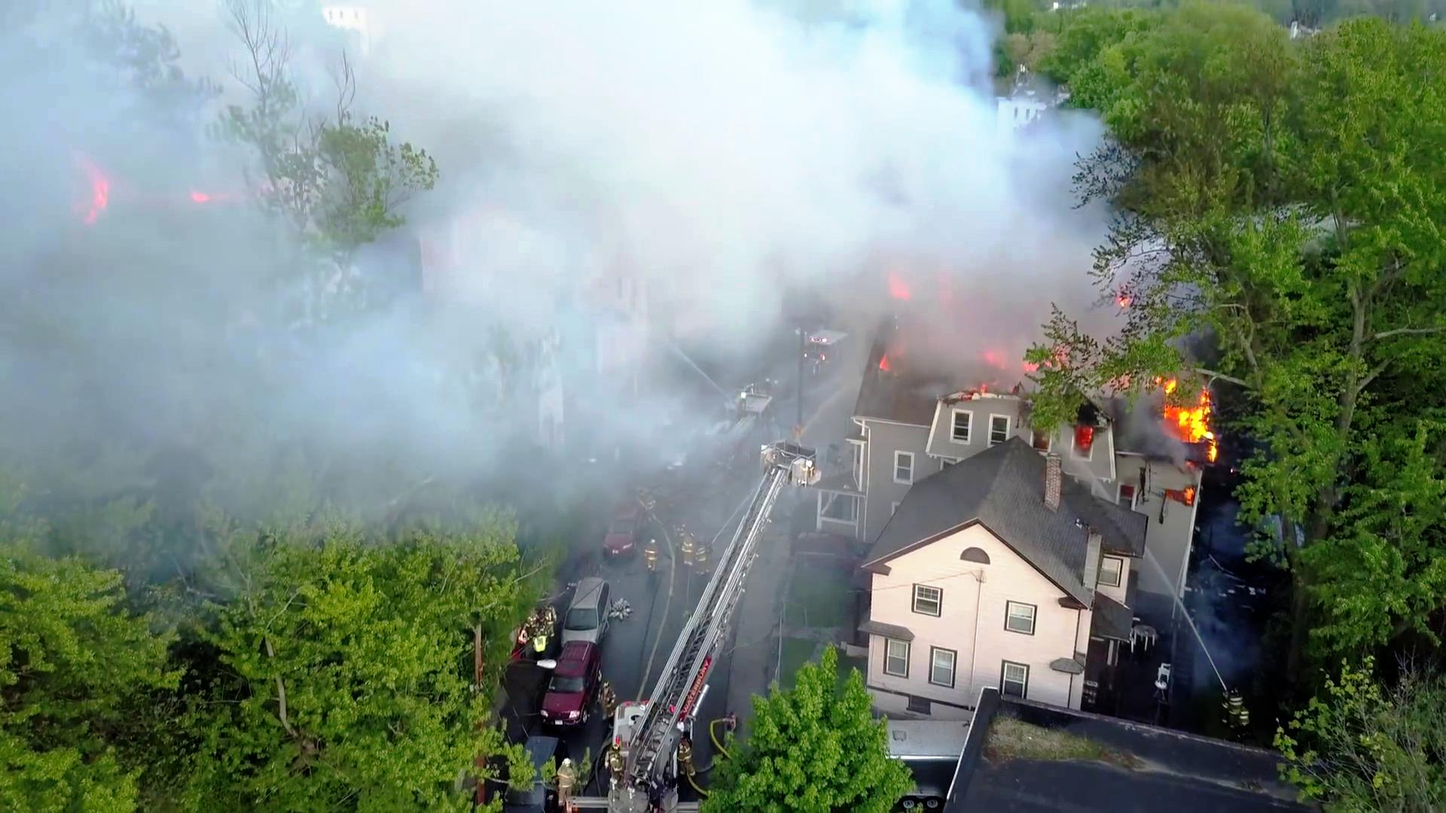fire: (1149, 369, 1215, 444)
smoke: (477, 27, 959, 261)
